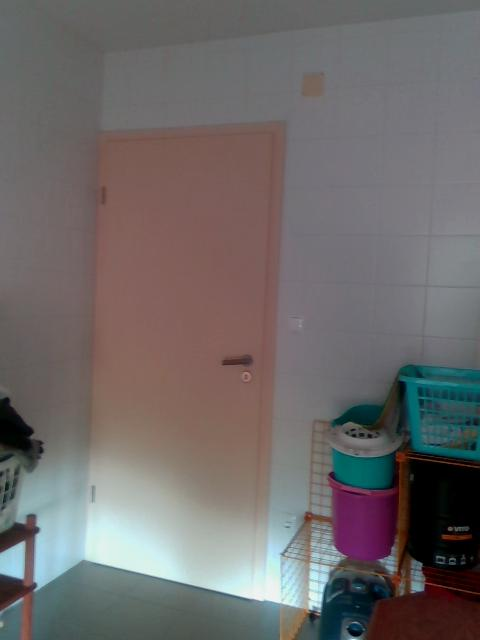closed_door: (84, 120, 287, 616)
